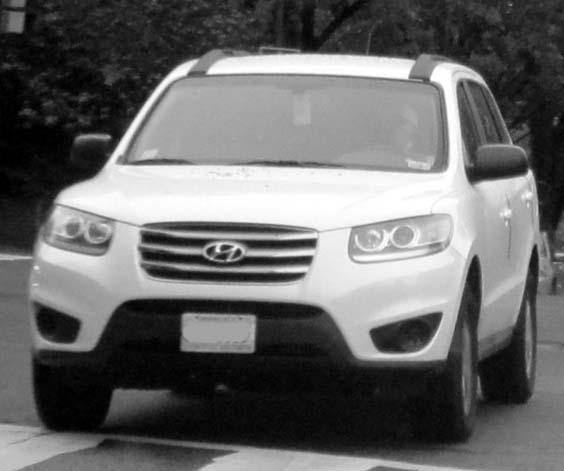car: (17, 26, 558, 448)
